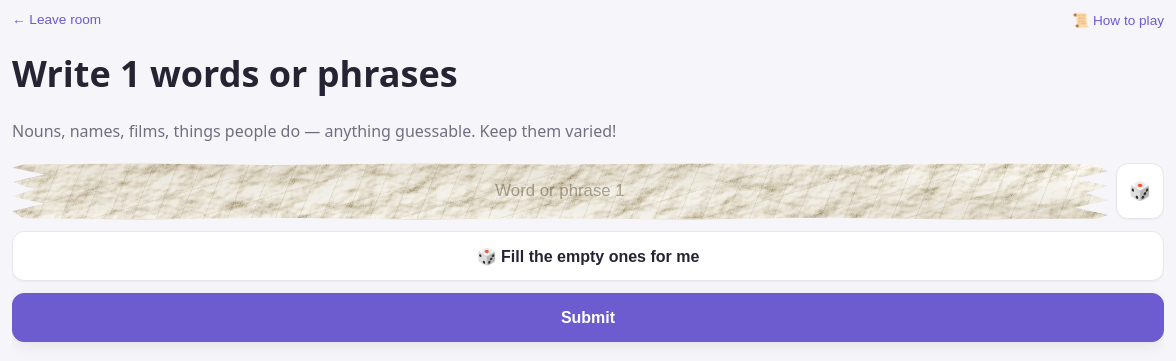
it: fill-the-rest is disabled once every box is filled
The image size is (1176, 361).
Check: the button "🎲 Fill the empty ones for me" is enabled, box [12, 231, 1164, 281]
Step 1. Type "Sushi" into the field with placeholder "Word or phrase 1" → {"x": 560, "y": 191}, box [12, 168, 1108, 215]
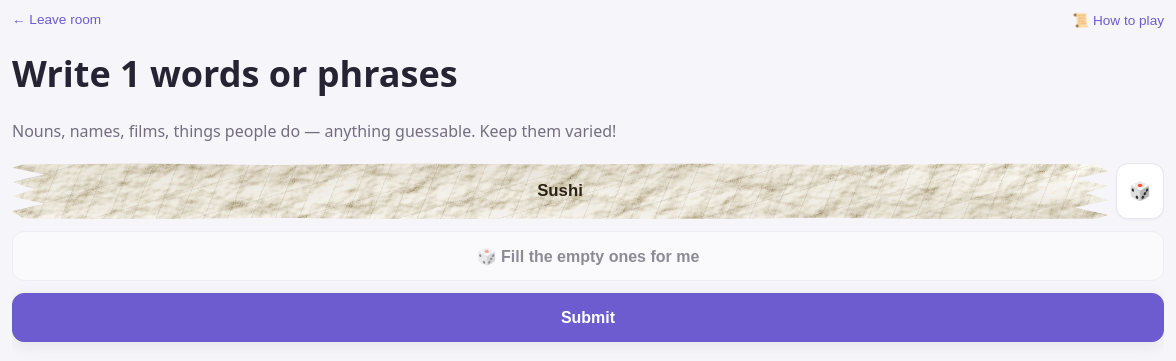
Check: the button "🎲 Fill the empty ones for me" is disabled, box [12, 231, 1164, 281]
